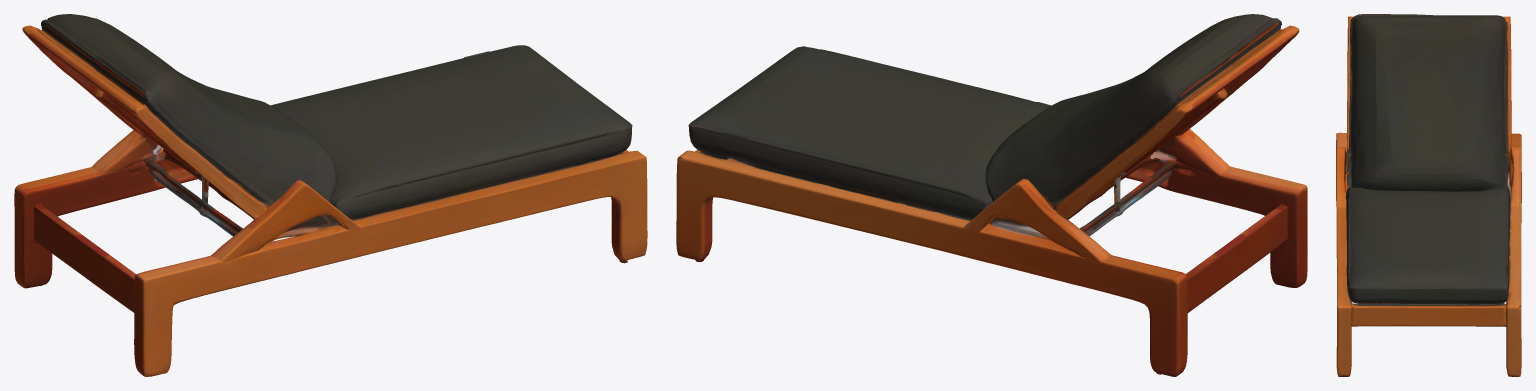
The model's file is lounge_chair_20.glb.
3 renders of one model, left to right at view 1: azimuth 30°, elevation 25°; view 2: azimuth 150°, elevation 25°; view 3: azimuth 270°, elevation 25°, orthographic. The views are drawn at different scales.
Visible parts, largest first — view 1: lounge_chair_20.obj; view 2: lounge_chair_20.obj; view 3: lounge_chair_20.obj.
Boxes of the visible parts, bbox=[...] form: lounge_chair_20.obj: bbox=[14, 14, 647, 376]; lounge_chair_20.obj: bbox=[676, 14, 1307, 376]; lounge_chair_20.obj: bbox=[1336, 14, 1521, 376].
Size of the model in its own units: 1.45 by 0.775 by 0.6487.
1 material, 1 textured.
